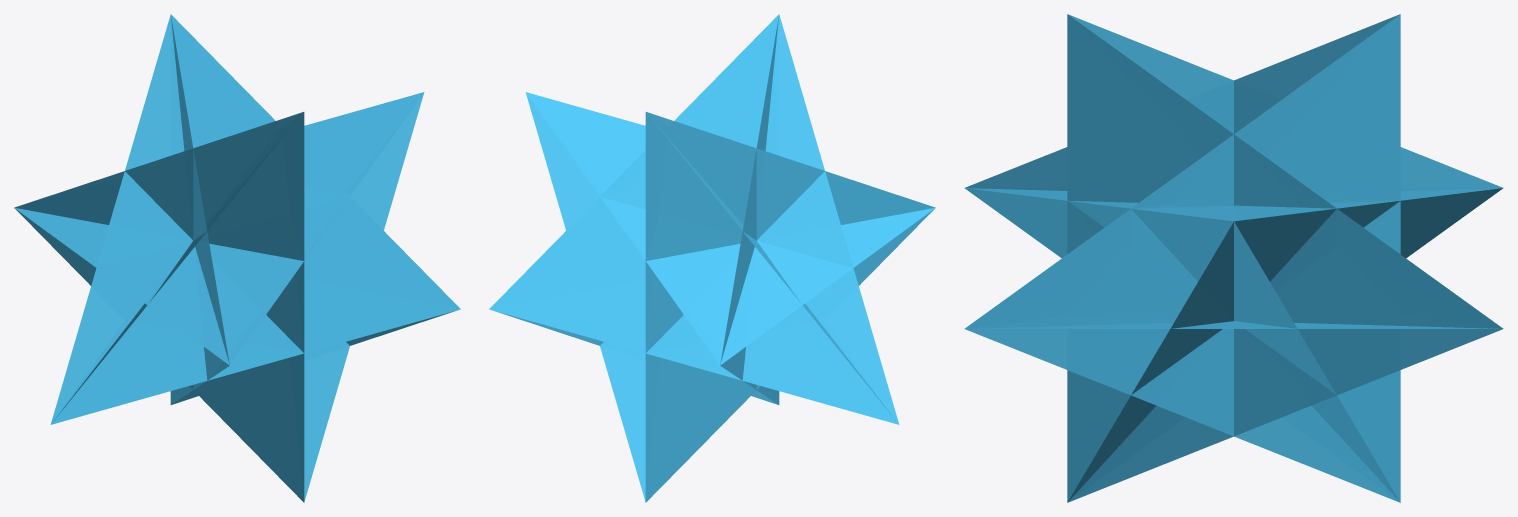
Rendered from PentagrammicCrossedAntiprismA.obj.
3 renders of one model, left to right at view 1: azimuth 30°, elevation 25°; view 2: azimuth 150°, elevation 25°; view 3: azimuth 270°, elevation 25°, orthographic. The views are drawn at different scales.
Bounding box in the file's own units: 1 × 1 × 1.
